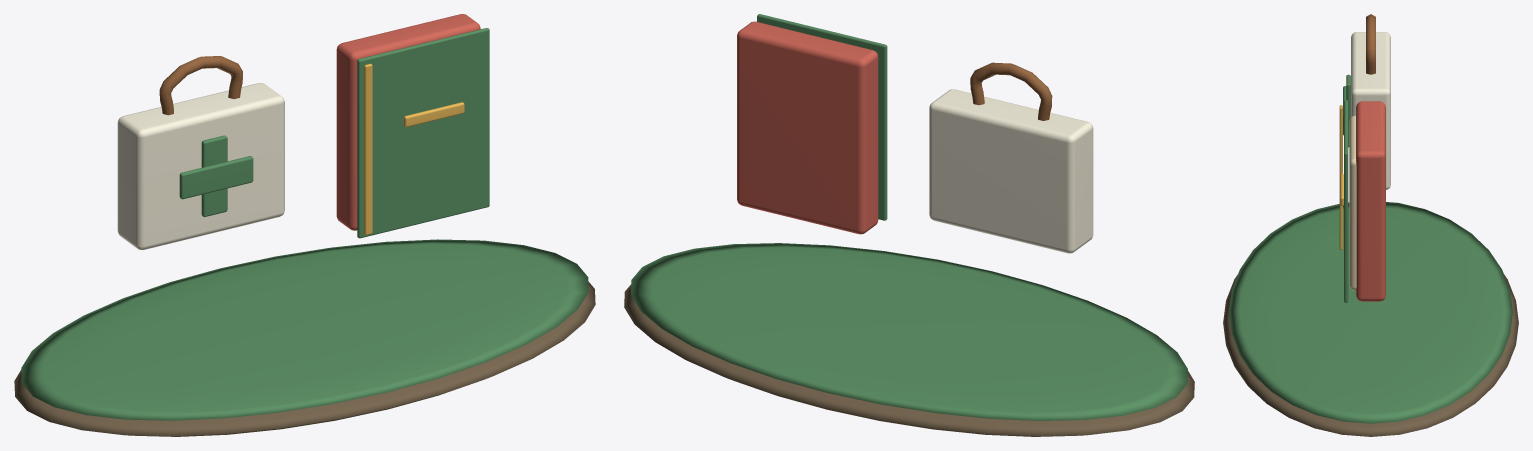
The model's file is guarding-care.glb.
3 renders of one model, left to right at view 1: azimuth 30°, elevation 25°; view 2: azimuth 150°, elevation 25°; view 3: azimuth 270°, elevation 25°, orthographic. The views are drawn at different scales.
Parts seen in each view (by area): view 1: guarding-care_surface_01, guarding-care_surface_02, guarding-care_surface_00, guarding-care_surface_04, guarding-care_surface_06, guarding-care_surface_03; view 2: guarding-care_surface_01, guarding-care_surface_04, guarding-care_surface_02, guarding-care_surface_00, guarding-care_surface_03; view 3: guarding-care_surface_01, guarding-care_surface_04, guarding-care_surface_00, guarding-care_surface_02, guarding-care_surface_05, guarding-care_surface_06, guarding-care_surface_03.
Boxes of the visible parts, box(x1,y1,x2,y2) form: guarding-care_surface_01: box(21, 28, 588, 420); guarding-care_surface_02: box(117, 83, 284, 249); guarding-care_surface_00: box(14, 281, 595, 436); guarding-care_surface_04: box(336, 14, 480, 230); guarding-care_surface_06: box(364, 63, 464, 235); guarding-care_surface_03: box(159, 56, 242, 115); guarding-care_surface_01: box(631, 14, 1187, 420); guarding-care_surface_04: box(737, 21, 878, 234); guarding-care_surface_02: box(929, 89, 1093, 253); guarding-care_surface_00: box(624, 284, 1194, 436); guarding-care_surface_03: box(970, 62, 1052, 120); guarding-care_surface_01: box(1229, 74, 1512, 423); guarding-care_surface_04: box(1356, 101, 1385, 301); guarding-care_surface_00: box(1223, 274, 1518, 436); guarding-care_surface_02: box(1351, 32, 1390, 189); guarding-care_surface_05: box(1349, 115, 1356, 290); guarding-care_surface_06: box(1339, 105, 1343, 249); guarding-care_surface_03: box(1366, 14, 1375, 74).
Bounding box in the file's own units: 4.56 × 2.57 × 2.5.
